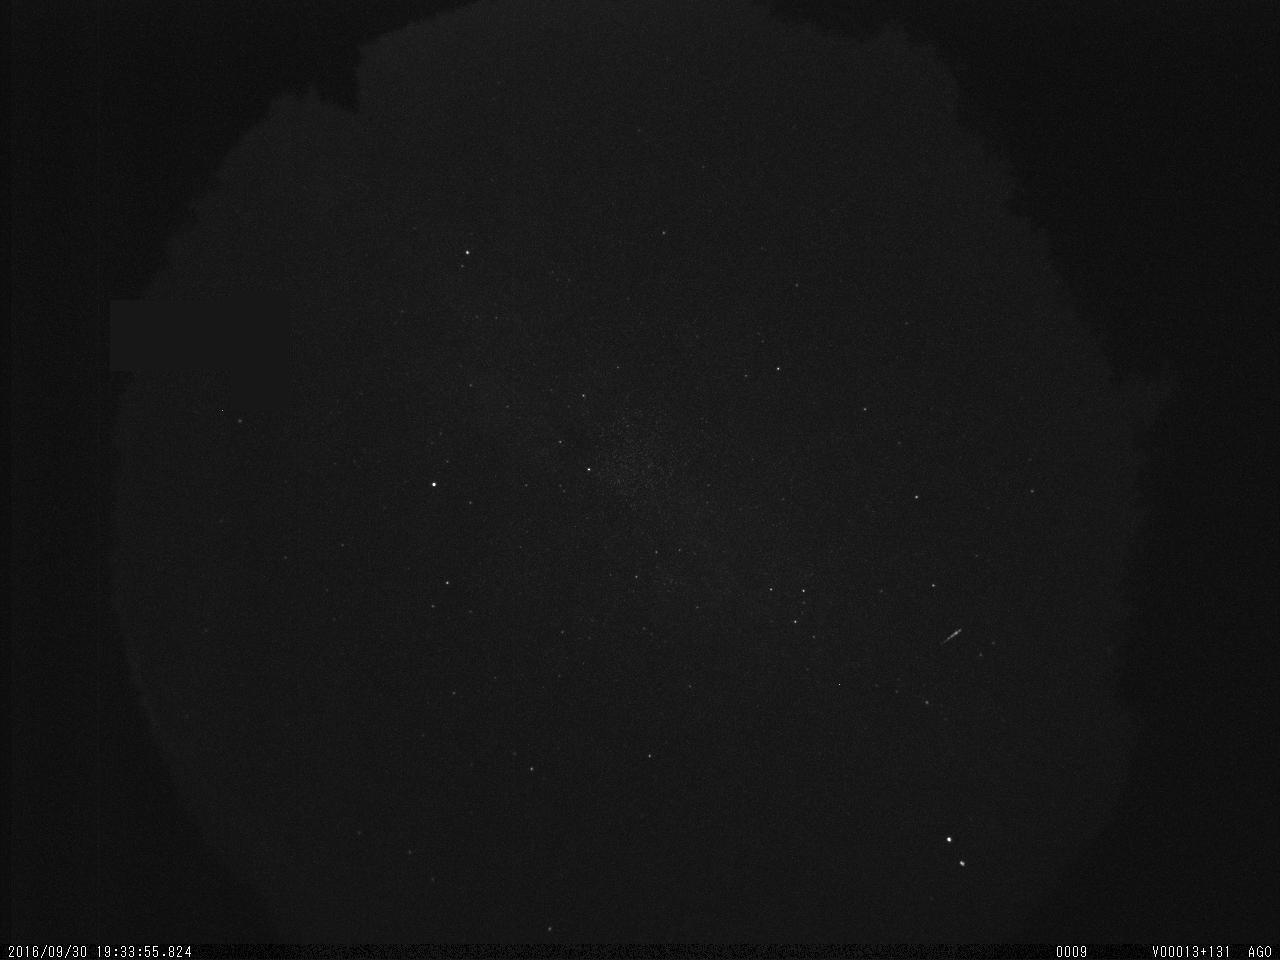meteor: (942, 624, 971, 648)
